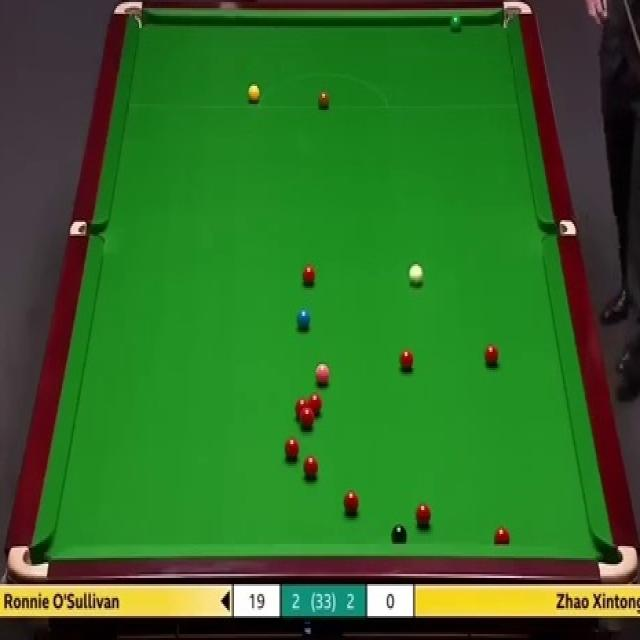black-ball: (389, 524, 407, 546)
blue-ball: (295, 308, 311, 333)
brown-ball: (316, 88, 330, 111)
green-ball: (449, 13, 464, 32)
pink-ball: (315, 359, 331, 386)
red-ball: (398, 347, 416, 375), (341, 490, 359, 517), (302, 455, 319, 483), (414, 503, 431, 529), (284, 436, 300, 461), (302, 266, 318, 290), (484, 343, 499, 368), (308, 394, 322, 418), (494, 526, 510, 546), (301, 410, 314, 430), (295, 398, 308, 418)
white-ball: (406, 260, 424, 288)
yellow-ball: (246, 83, 260, 103)
